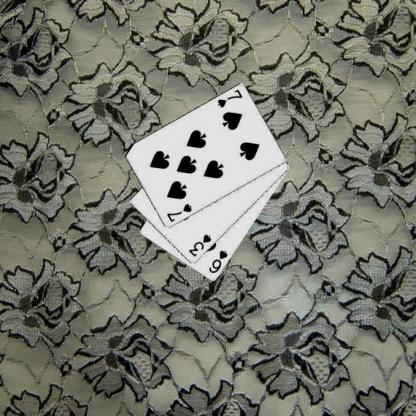3S: (186, 232, 212, 258)
6S: (206, 248, 229, 275)
7S: (214, 87, 244, 109), (164, 202, 192, 224)
